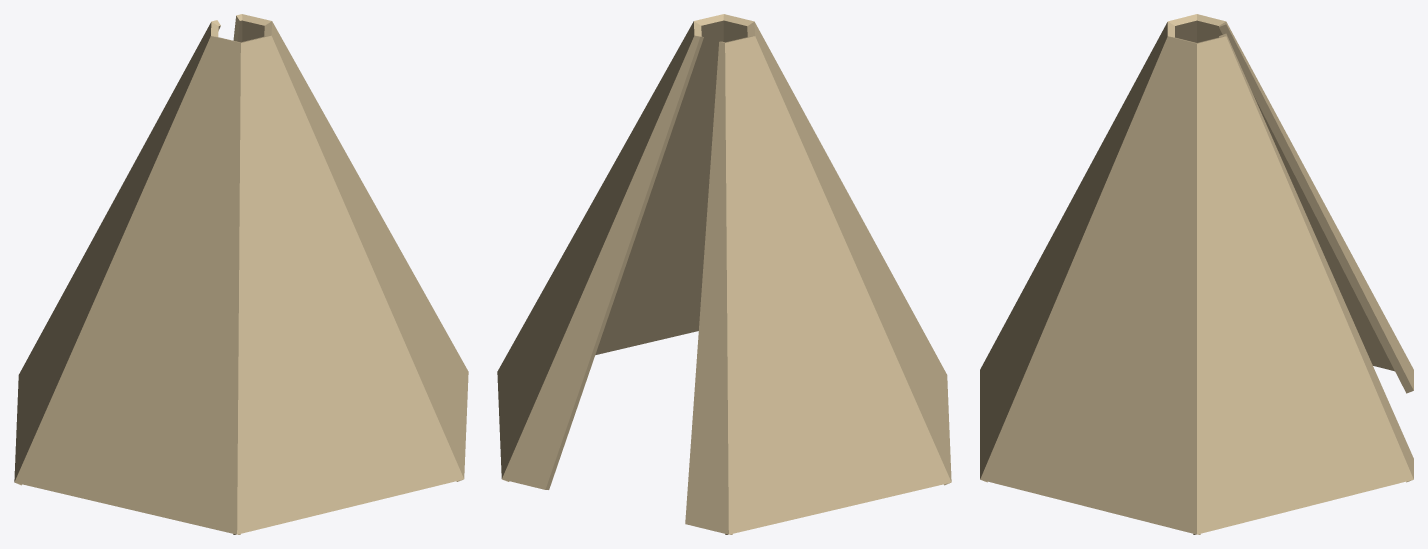
File: 初级帐篷_手游_远.glb
3 views of the same model, side by side, from view 1: azimuth 30°, elevation 25°; view 2: azimuth 150°, elevation 25°; view 3: azimuth 270°, elevation 25° (orthographic).
Parts seen in each view (by area): view 1: TN1-主体; view 2: TN1-主体; view 3: TN1-主体.
Boxes of the visible parts, x1=… form: TN1-主体: x1=14, y1=14, x2=468, y2=534; TN1-主体: x1=497, y1=14, x2=951, y2=534; TN1-主体: x1=980, y1=14, x2=1413, y2=534.
Bounding box in the file's own units: 2.6 × 2.2 × 2.17.
1 material, 1 textured.
